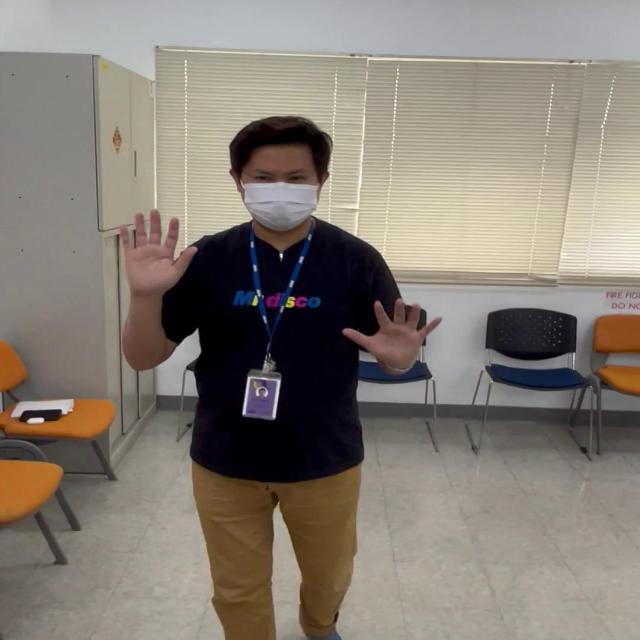bare_hand: (107, 206, 196, 290), (343, 296, 439, 368)
